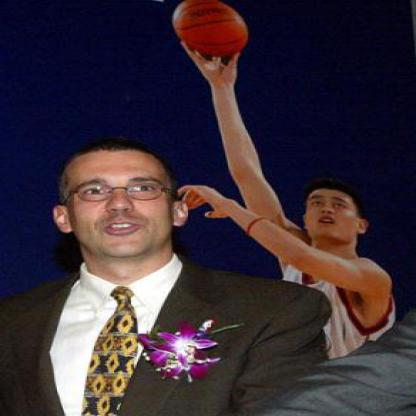face: (64, 141, 178, 258), (301, 184, 363, 244)
